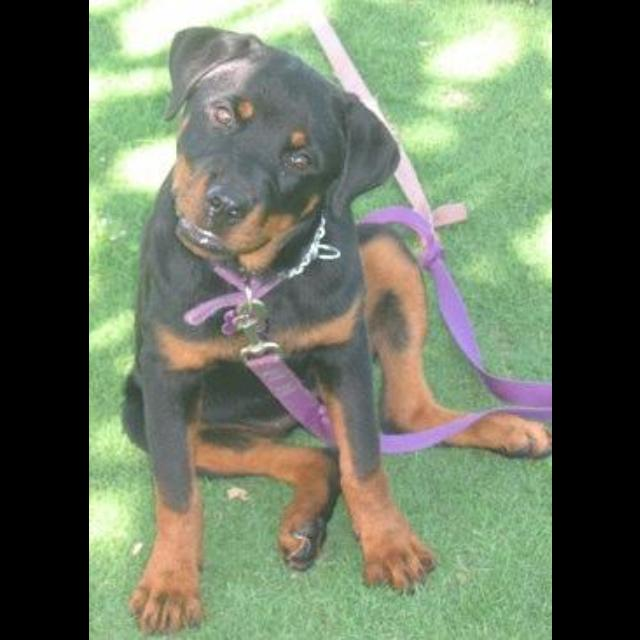rottweiler: (120, 24, 551, 636)
